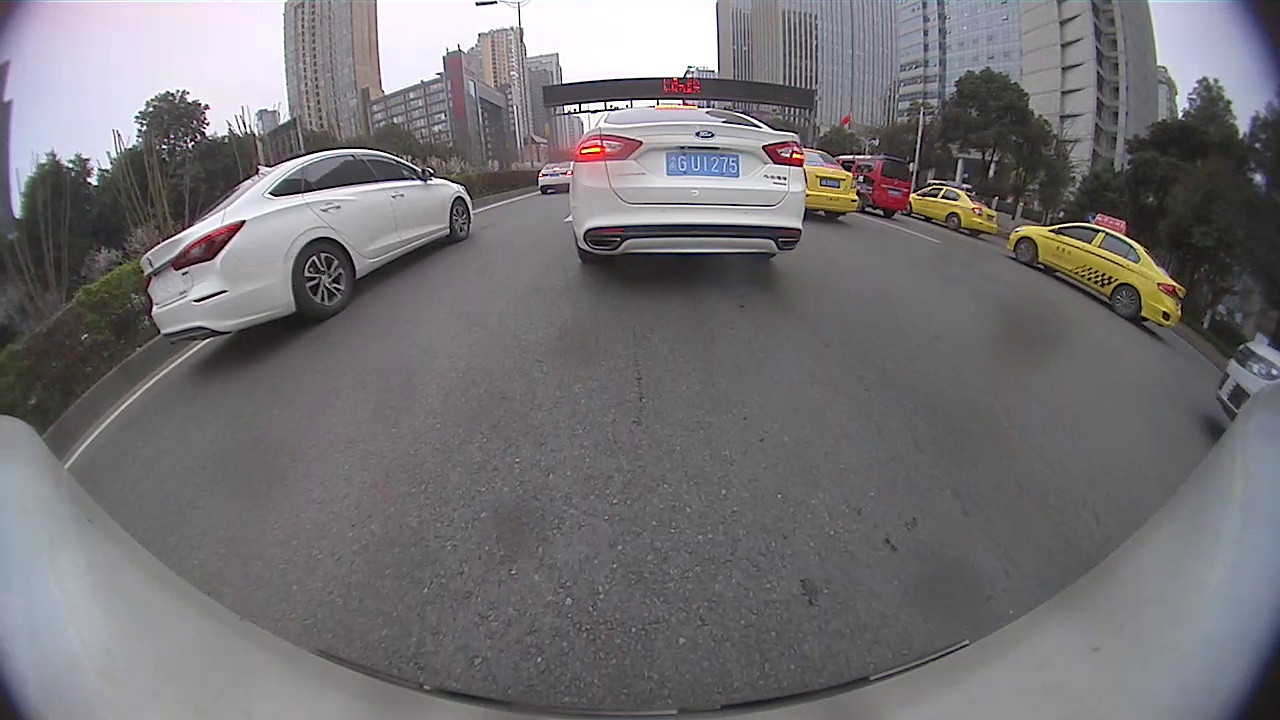car: (139, 149, 474, 345), (569, 103, 806, 265), (1006, 213, 1186, 328), (1214, 332, 1279, 422), (901, 180, 999, 238), (833, 154, 911, 218), (802, 147, 860, 221), (538, 161, 574, 195)
front: (448, 195, 472, 243), (1012, 235, 1038, 266)
rear: (292, 236, 356, 312), (1111, 282, 1141, 319), (945, 213, 963, 231)
